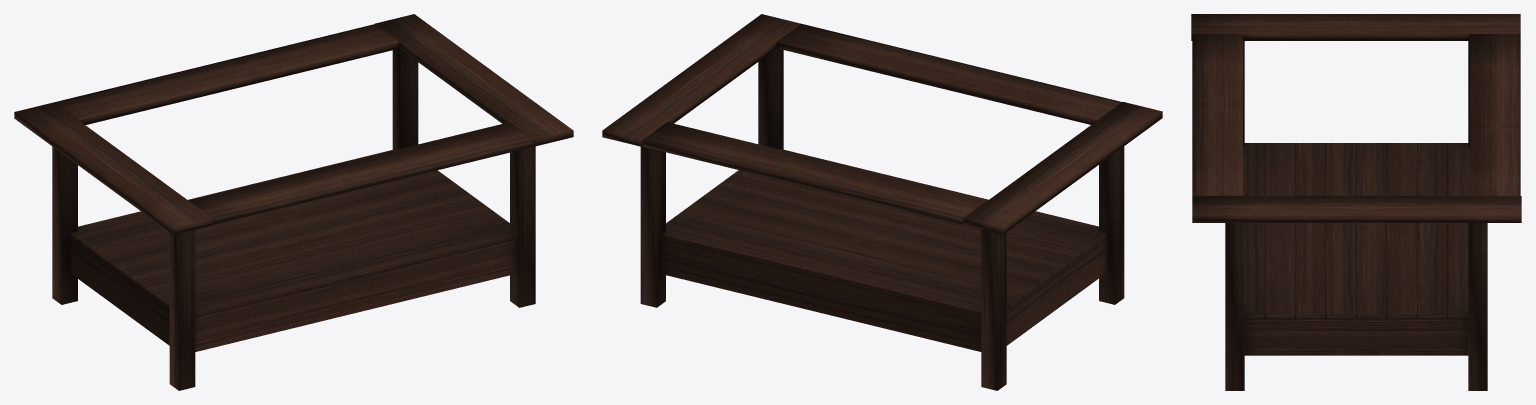
File: Table Custom 1.fbx
3 renders of one model, left to right at view 1: azimuth 30°, elevation 25°; view 2: azimuth 150°, elevation 25°; view 3: azimuth 270°, elevation 25°, orthographic. The views are drawn at different scales.
Visible parts, largest first — view 1: GreenFelt_Table; view 2: GreenFelt_Table; view 3: GreenFelt_Table.
Part boxes in pixels (bbox=[...]): GreenFelt_Table: bbox=[14, 14, 573, 390]; GreenFelt_Table: bbox=[602, 14, 1162, 390]; GreenFelt_Table: bbox=[1191, 14, 1521, 390].
Bounding box in the file's own units: 110 × 47.07 × 75.73.
